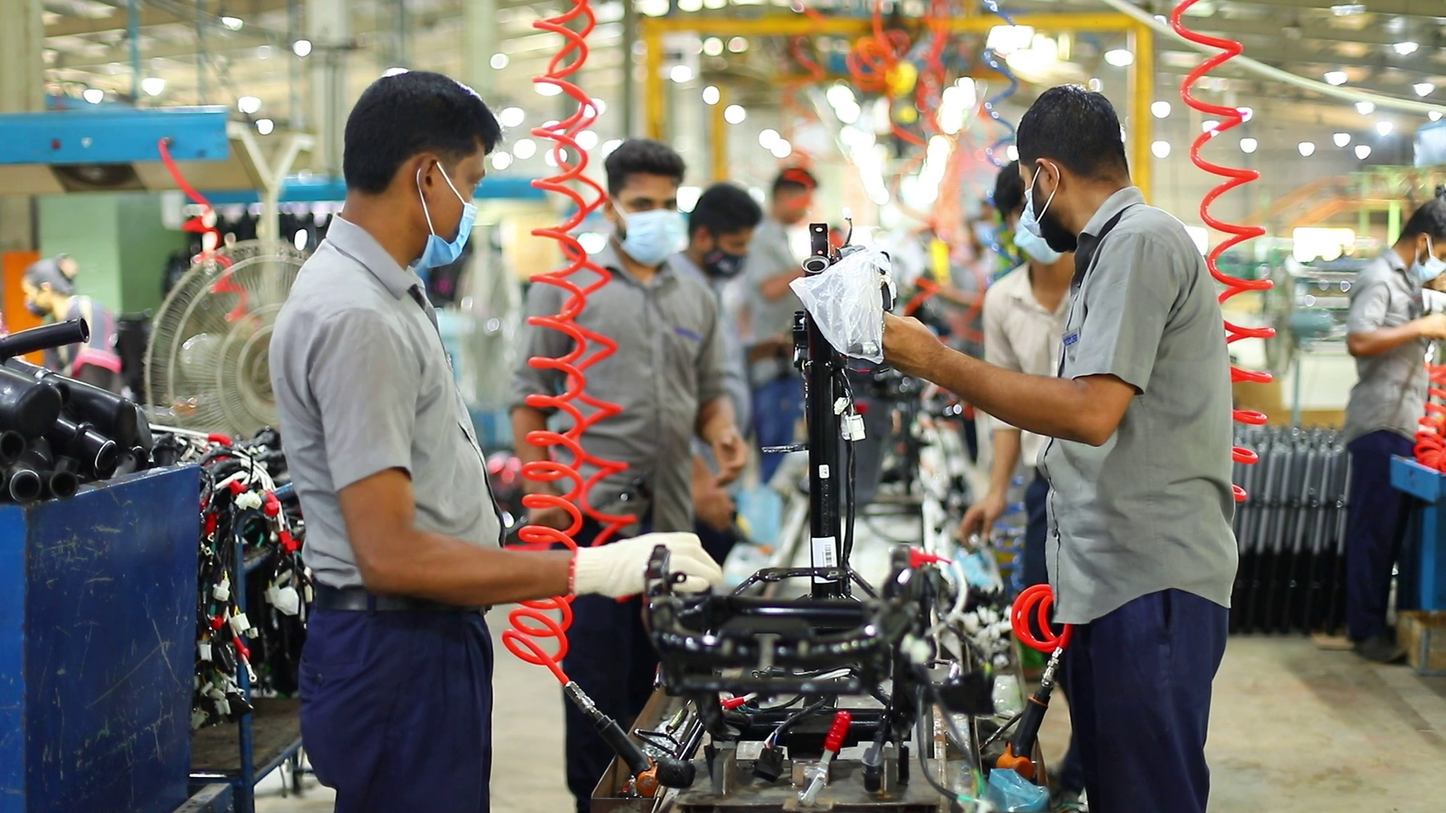mask: (614, 209, 688, 266), (421, 202, 478, 268), (1014, 193, 1061, 266), (704, 248, 746, 279), (1411, 255, 1446, 290)
person: (267, 70, 724, 813), (879, 81, 1241, 813), (502, 139, 746, 813), (1314, 196, 1446, 666), (959, 160, 1075, 604), (737, 168, 827, 455), (667, 181, 766, 429), (18, 254, 139, 403)
